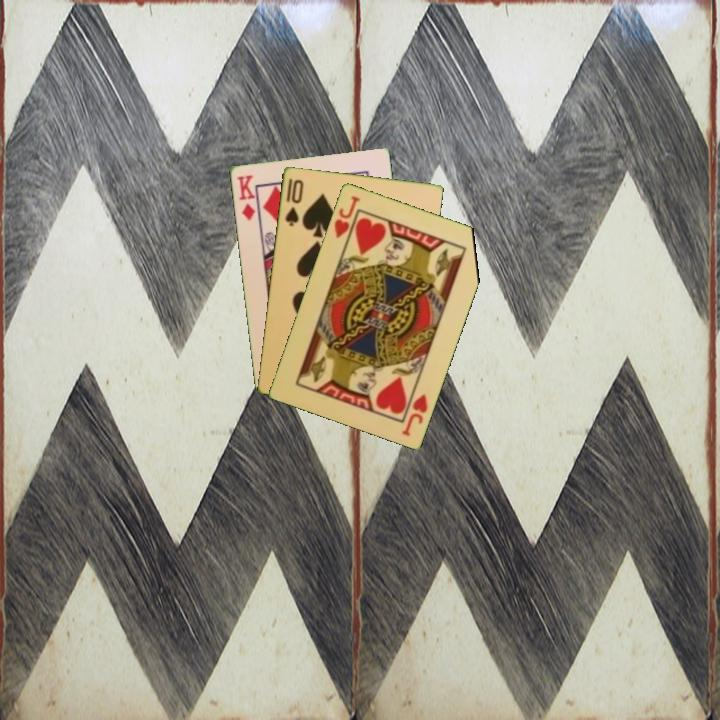10s: (281, 174, 306, 229)
Jh: (330, 192, 363, 248), (398, 389, 430, 439)
Kd: (233, 171, 258, 223)
